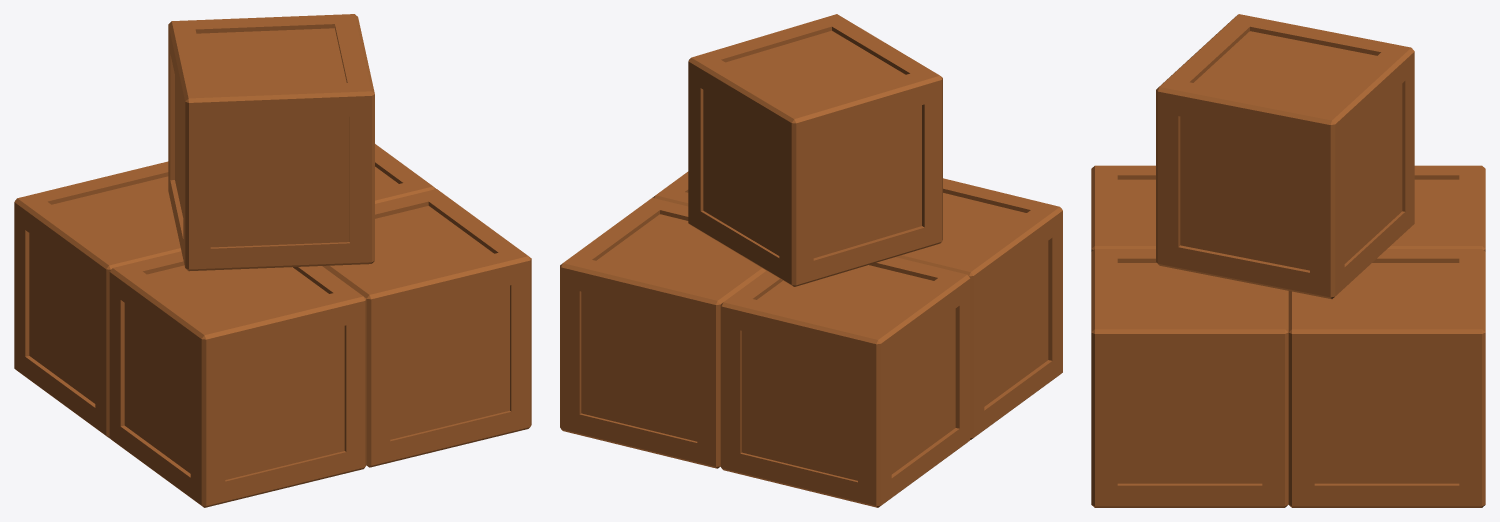
File: cratestack.glb
3 renders of one model, left to right at view 1: azimuth 30°, elevation 25°; view 2: azimuth 150°, elevation 25°; view 3: azimuth 270°, elevation 25°, orthographic. The views are drawn at different scales.
Visible parts, largest first — view 1: crateStack; view 2: crateStack; view 3: crateStack.
Boxes of the visible parts, x1,y1,x2,y2 form: crateStack: [14, 14, 531, 507]; crateStack: [560, 14, 1062, 507]; crateStack: [1091, 14, 1485, 507].
Bounding box in the file's own units: 1.77 × 1.77 × 1.77.
1 material, 1 textured.
